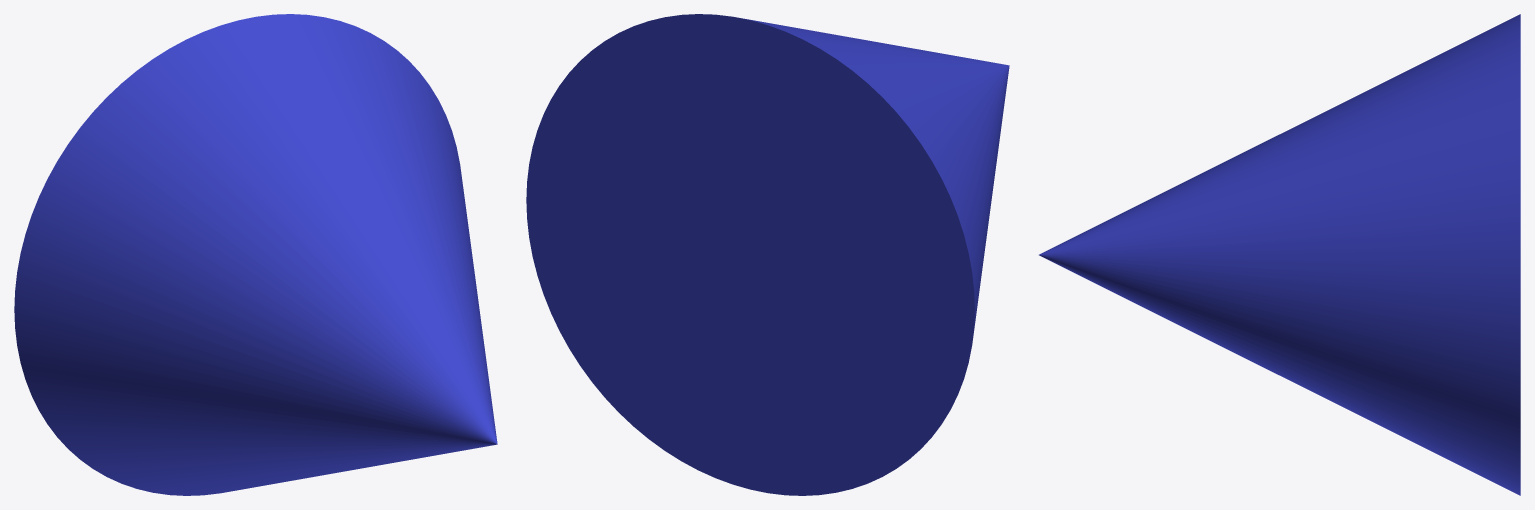
File: Directional Arrow.fbx
The picture shows the model from 3 angles, left to right: view 1: azimuth 30°, elevation 25°; view 2: azimuth 150°, elevation 25°; view 3: azimuth 270°, elevation 25°; orthographic projection. The views are drawn at different scales.
Parts seen in each view (by area): view 1: root; view 2: root; view 3: root.
Boxes of the visible parts, x1,y1,x2,y2 form: root: [14, 14, 497, 495]; root: [526, 14, 1009, 495]; root: [1039, 14, 1520, 495].
Bounding box in the file's own units: 0.2 × 0.2 × 0.2.
